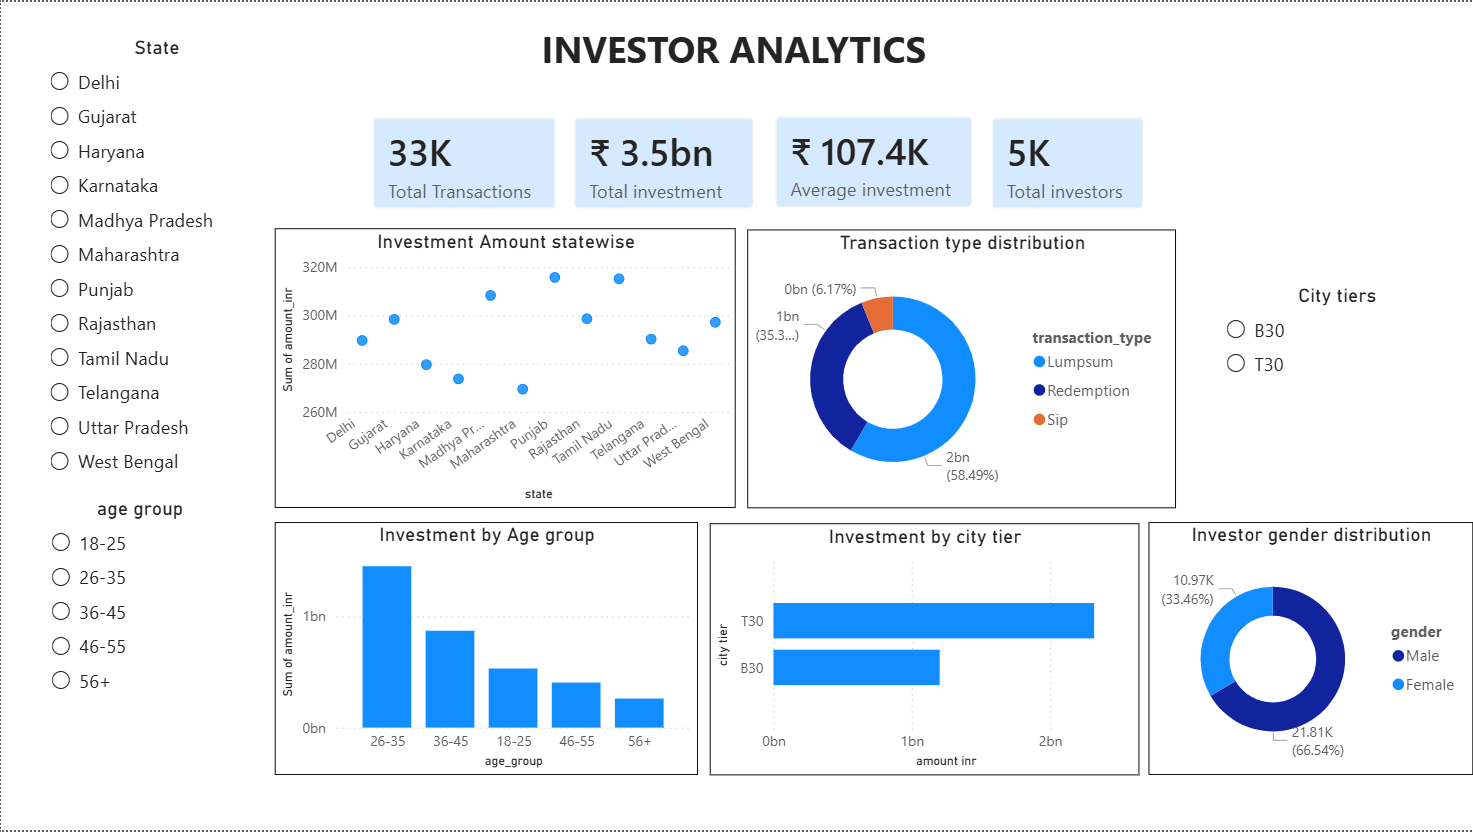

The dashboard page shown, as its layout file describes it:
{"tool":"powerbi","page":{"name":"Investor Analytics","canvas":[1280,720],"ordinal":2},"visuals":[{"type":"cardVisual","fields":{"Data":["clean_aum.Total Transactions"]},"box":[306,83.5,200,114],"z":0},{"type":"cardVisual","fields":{"Data":["clean_aum.Total investment"]},"box":[481.4,83.7,190.7,114],"z":1000},{"type":"cardVisual","fields":{"Data":["clean_aum.Total investors"]},"box":[844.2,83.7,166.3,114],"z":2000},{"type":"cardVisual","fields":{"Data":["clean_aum.Average investment"]},"box":[657,82.6,205.8,114],"z":3000},{"type":"textbox","box":[329.1,14,607,62.8],"z":4000},{"type":"scatterChart","title":"Investment Amount statewise","fields":{"X":["clean_transactions.state"],"Y":["Sum(clean_transactions.amount_inr)"]},"box":[238.4,196.5,401.2,243],"z":8000},{"type":"donutChart","title":"Transaction type distribution","fields":{"Y":["Sum(clean_transactions.amount_inr)"],"Category":["clean_transactions.transaction_type"]},"box":[649,198,373,242],"z":9000},{"type":"clusteredColumnChart","title":"Investment by Age group","fields":{"Category":["clean_transactions.age_group"],"Y":["Sum(clean_transactions.amount_inr)"]},"box":[238,452,368,220],"z":9001},{"type":"clusteredBarChart","title":"Investment by city tier","fields":{"Y":["Sum(clean_transactions.amount_inr)"],"Category":["clean_transactions.city_tier"]},"box":[616.6,452.8,373.4,219.2],"z":9002},{"type":"listSlicer","fields":{"Values":["clean_transactions.state"]},"box":[37.2,29.1,197.7,401.2],"z":9003},{"type":"listSlicer","fields":{"Values":["clean_transactions.age_group"]},"box":[38.5,430,166.2,183.1],"z":9004},{"type":"listSlicer","fields":{"Values":["clean_transactions.city_tier"]},"box":[1059.8,244.5,204.7,100],"z":9005},{"type":"donutChart","title":"Investor gender distribution","fields":{"Category":["clean_transactions.gender"],"Y":["CountNonNull(clean_transactions.investor_id)"]},"box":[998,452,282,220],"z":9006}]}

Visuals, with their boxes in screenshot pixels (x1, y1, x2, y2), scaled from the page's 1280x720 canvas onto the 1473x832 screenshot:
cardVisual - clean_aum.Total Transactions: crop(352, 96, 582, 228)
cardVisual - clean_aum.Total investment: crop(554, 97, 773, 228)
cardVisual - clean_aum.Total investors: crop(971, 97, 1163, 228)
cardVisual - clean_aum.Average investment: crop(756, 95, 993, 227)
textbox: crop(379, 16, 1077, 89)
"Investment Amount statewise" scatterChart: crop(274, 227, 736, 508)
"Transaction type distribution" donutChart: crop(747, 229, 1176, 508)
"Investment by Age group" clusteredColumnChart: crop(274, 522, 697, 777)
"Investment by city tier" clusteredBarChart: crop(710, 523, 1139, 777)
listSlicer - clean_transactions.state: crop(43, 34, 270, 497)
listSlicer - clean_transactions.age_group: crop(44, 497, 236, 708)
listSlicer - clean_transactions.city_tier: crop(1220, 283, 1455, 398)
"Investor gender distribution" donutChart: crop(1148, 522, 1472, 777)
